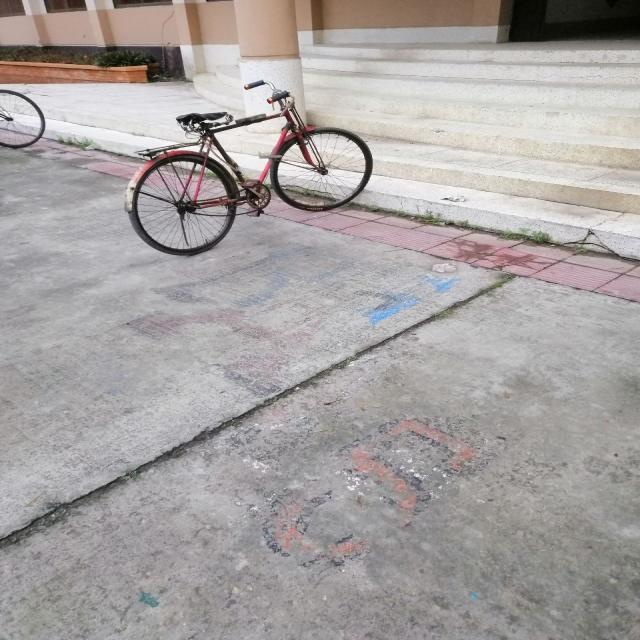Bicycle: (108, 67, 403, 259)
